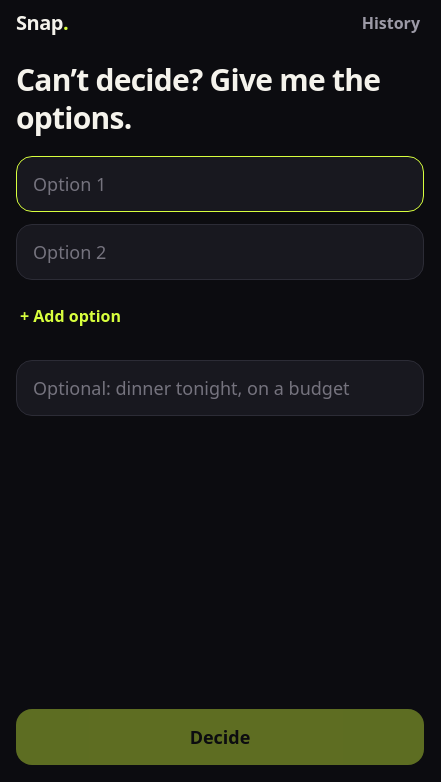
Test case: gate screen › shows no pick, no probabilities and no ranked options for a gated decision
Step 1. Type "quit my job" into the field labelled "Option 1" → (220, 184), box [16, 156, 424, 212]
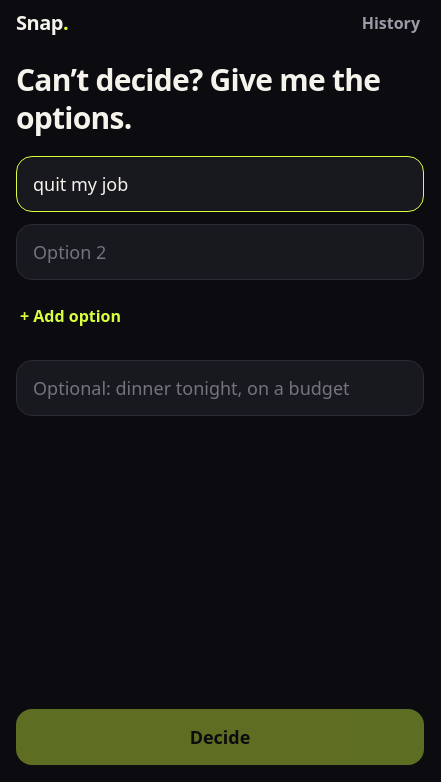
Step 2. Type "stay" into the field labelled "Option 2" → (220, 252), box [16, 224, 424, 280]
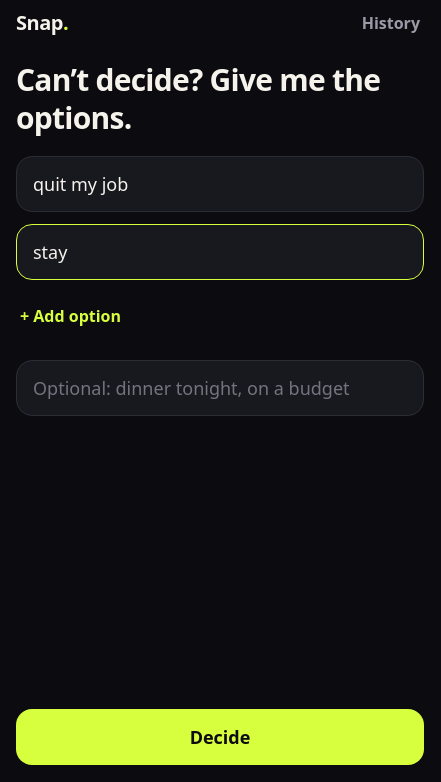
Step 3. Click the button "Decide" → (220, 737), box [16, 709, 424, 765]
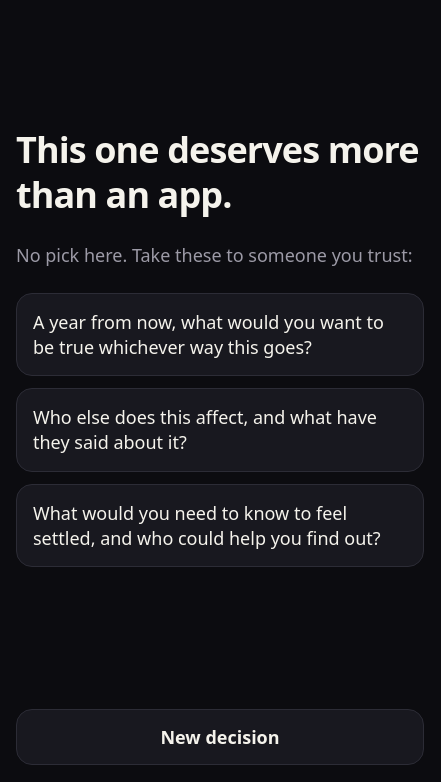
Check: the text "quit my job" is not shown
Check: the heading "This one deserves more than an app." is shown, box [16, 127, 424, 217]
Check: the number of list items with test id "gate-question" is 3, box [16, 293, 424, 376]; [16, 388, 424, 472]; [16, 484, 424, 567]
